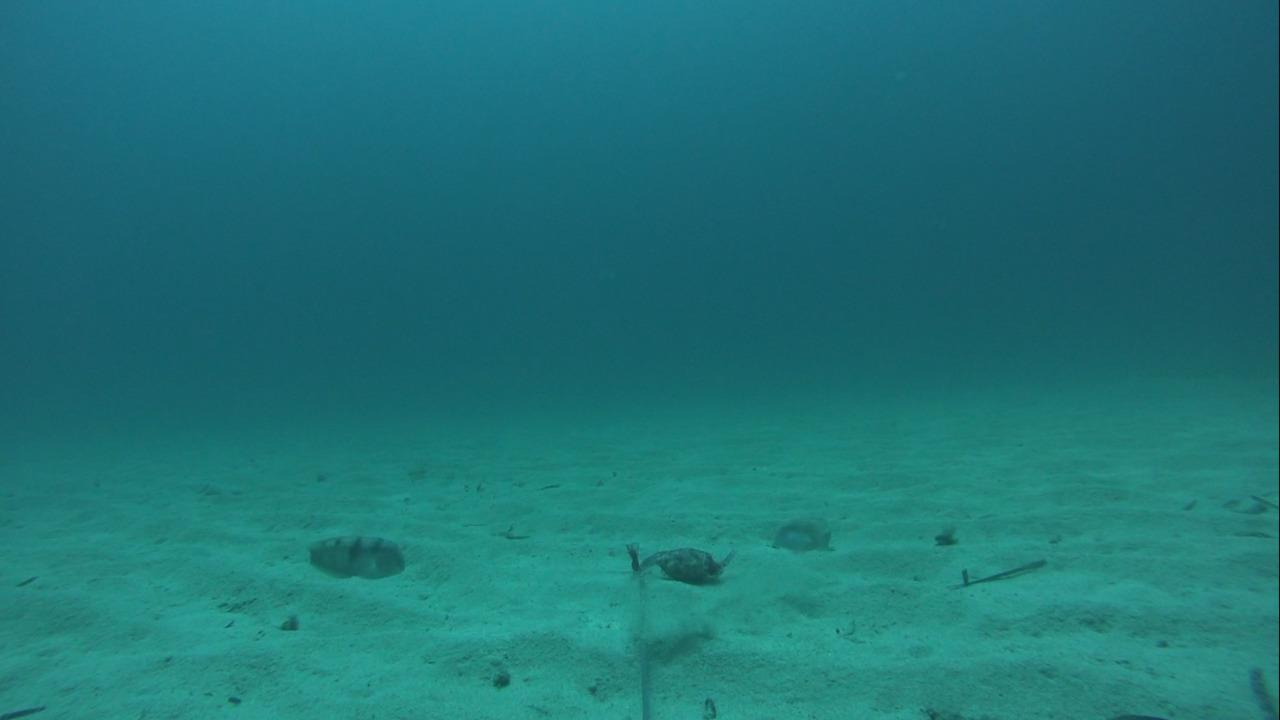raor: (300, 528, 410, 581), (763, 514, 837, 554)
